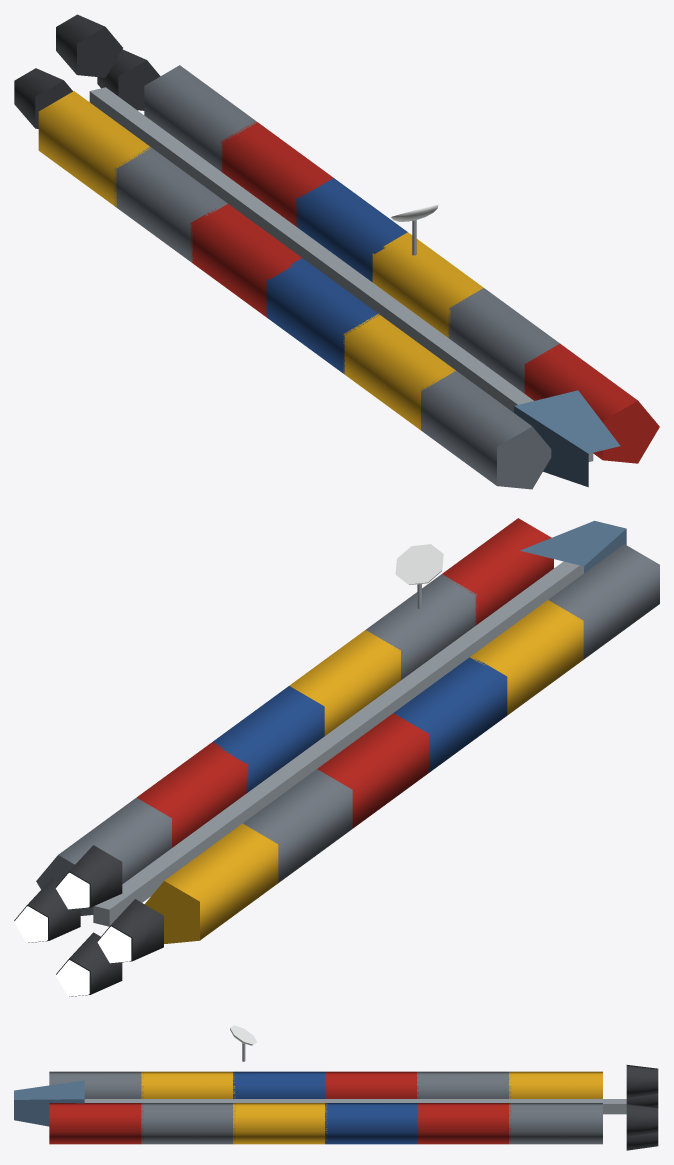
The model's file is space_ship_logistics_mk6_lod1.glb.
3 renders of one model, top to bottom at view 1: azimuth 30°, elevation 25°; view 2: azimuth 150°, elevation 25°; view 3: azimuth 270°, elevation 25°, orthographic. The views are drawn at different scales.
Parts seen in each view (by area): view 1: body, pod_5_0, pod_0_0, pod_4_0, pod_3_0, pod_1_0, pod_2_0, pod_5_1, pod_0_1, pod_1_1, pod_4_1, pod_3_1 (+4 smaller); view 2: body, pod_0_0, pod_3_0, pod_4_0, pod_5_0, pod_2_0, pod_1_0, pod_2_1, pod_3_1, pod_1_1, pod_4_1, pod_5_1 (+6 smaller); view 3: body, pod_0_1, pod_5_1, pod_4_1, pod_3_1, pod_1_1, pod_2_1, pod_0_0, pod_4_0, pod_1_0, pod_3_0, pod_2_0 (+6 smaller).
Part boxes in pixels (x1=…): body: x1=89, y1=87, x2=620, y2=487; pod_5_0: x1=420, y1=370, x2=551, y2=489; pod_0_0: x1=38, y1=91, x2=151, y2=207; pod_4_0: x1=343, y1=313, x2=455, y2=430; pod_3_0: x1=266, y1=258, x2=379, y2=373; pod_1_0: x1=114, y1=147, x2=227, y2=262; pod_2_0: x1=190, y1=204, x2=301, y2=318; pod_5_1: x1=524, y1=343, x2=659, y2=463; pod_0_1: x1=144, y1=65, x2=257, y2=171; pod_1_1: x1=220, y1=121, x2=333, y2=227; pod_4_1: x1=448, y1=288, x2=559, y2=393; pod_3_1: x1=372, y1=232, x2=483, y2=338; body: x1=93, y1=520, x2=626, y2=926; pod_0_0: x1=144, y1=823, x2=278, y2=943; pod_3_0: x1=393, y1=657, x2=507, y2=772; pod_4_0: x1=470, y1=600, x2=583, y2=715; pod_5_0: x1=548, y1=544, x2=659, y2=659; pod_2_0: x1=317, y1=713, x2=428, y2=828; pod_1_0: x1=243, y1=769, x2=352, y2=882; pod_2_1: x1=212, y1=686, x2=324, y2=793; pod_3_1: x1=289, y1=630, x2=400, y2=735; pod_1_1: x1=137, y1=742, x2=248, y2=847; pod_4_1: x1=366, y1=574, x2=477, y2=679; pod_5_1: x1=442, y1=518, x2=553, y2=625; body: x1=14, y1=1080, x2=626, y2=1126; pod_0_1: x1=509, y1=1103, x2=602, y2=1144; pod_5_1: x1=49, y1=1103, x2=143, y2=1144; pod_4_1: x1=141, y1=1103, x2=235, y2=1144; pod_3_1: x1=233, y1=1103, x2=327, y2=1144; pod_1_1: x1=417, y1=1103, x2=511, y2=1144; pod_2_1: x1=325, y1=1103, x2=419, y2=1144; pod_0_0: x1=509, y1=1071, x2=602, y2=1098; pod_4_0: x1=141, y1=1071, x2=235, y2=1098; pod_1_0: x1=417, y1=1071, x2=511, y2=1098; pod_3_0: x1=233, y1=1071, x2=327, y2=1098; pod_2_0: x1=325, y1=1071, x2=418, y2=1098.
Bounding box in the file's own units: 8.03 × 9.39 × 45.62.
